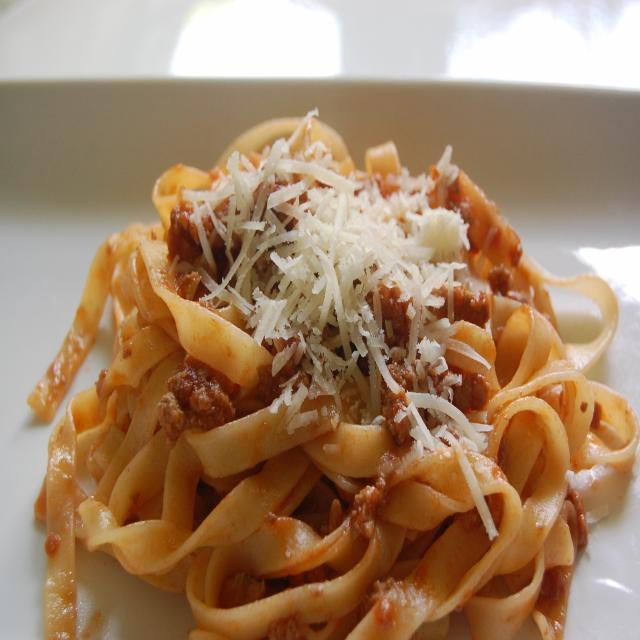Pasta al ragu: (57, 63, 615, 621)
